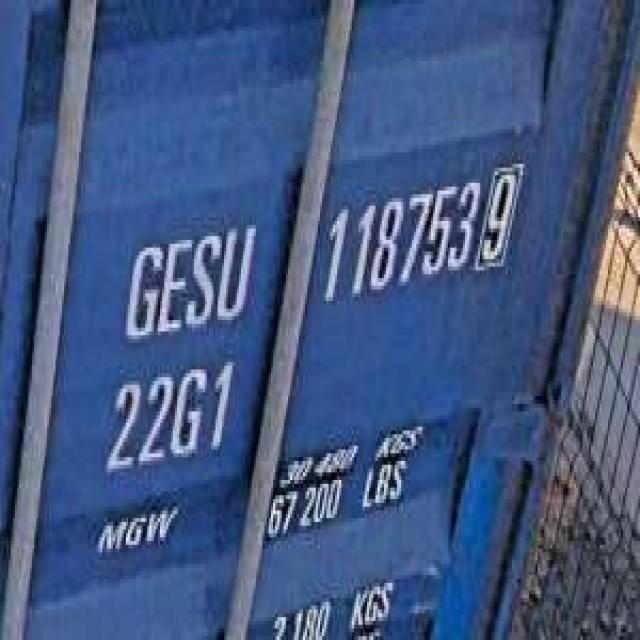dv: (478, 152, 523, 278)
owner: (117, 210, 256, 339)
serial: (318, 168, 478, 308)
size: (100, 354, 237, 476)
